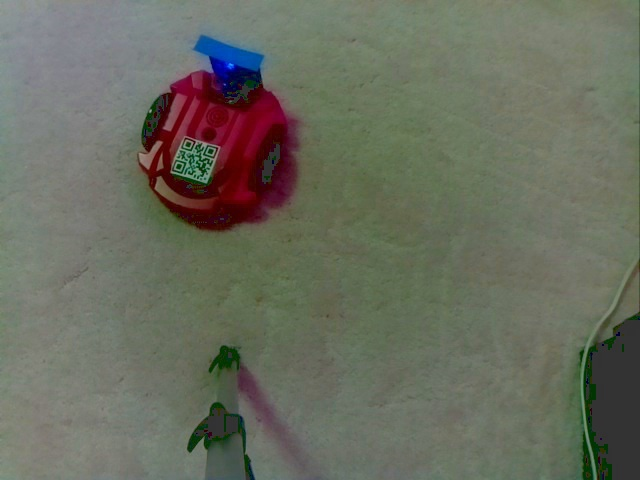board: (191, 28, 264, 92)
chassis: (129, 33, 284, 224)
